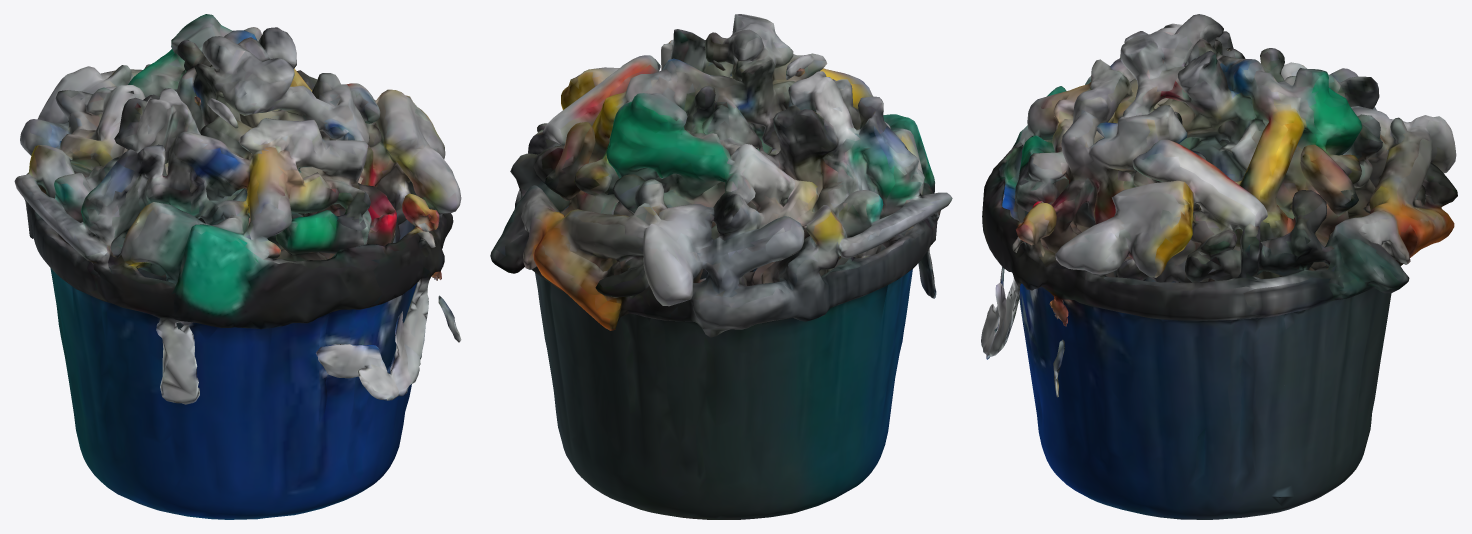
The model's file is trash can.glb.
3 views of the same model, side by side, from view 1: azimuth 30°, elevation 25°; view 2: azimuth 150°, elevation 25°; view 3: azimuth 270°, elevation 25° (orthographic).
Parts seen in each view (by area): view 1: Mesh_0; view 2: Mesh_0; view 3: Mesh_0.
Boxes of the visible parts, bbox=[...] form: Mesh_0: bbox=[14, 14, 461, 519]; Mesh_0: bbox=[490, 14, 952, 519]; Mesh_0: bbox=[981, 14, 1457, 519].
Size of the model in its own units: 0.3148 by 0.35 by 0.3476.
Materials: 1 (1 with a texture image).
